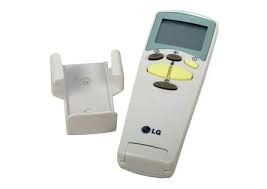remote control: (124, 0, 219, 189)
